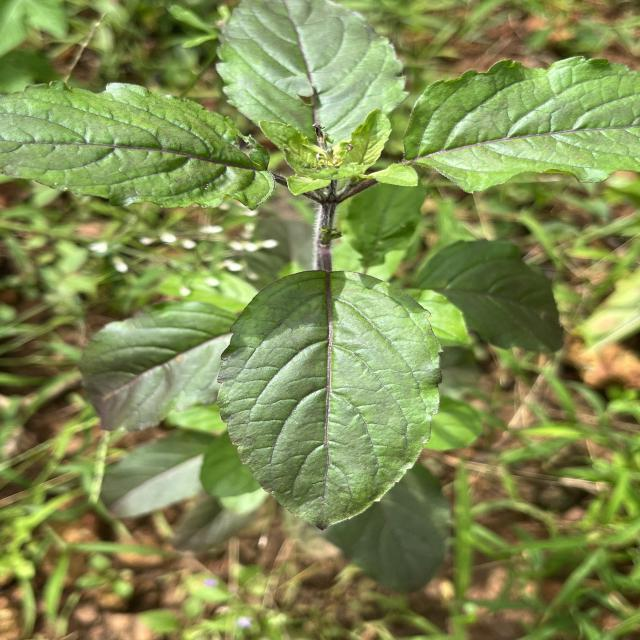Ocimum tenuiflorum: (212, 268, 444, 532)
